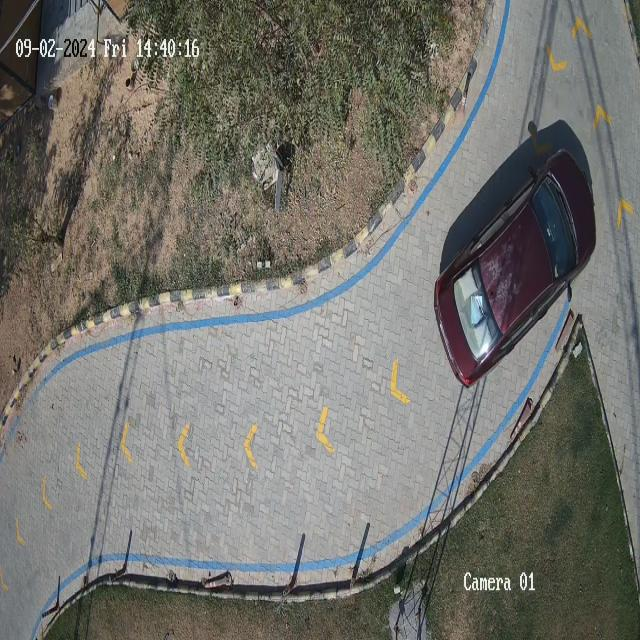car: (432, 150, 598, 388)
